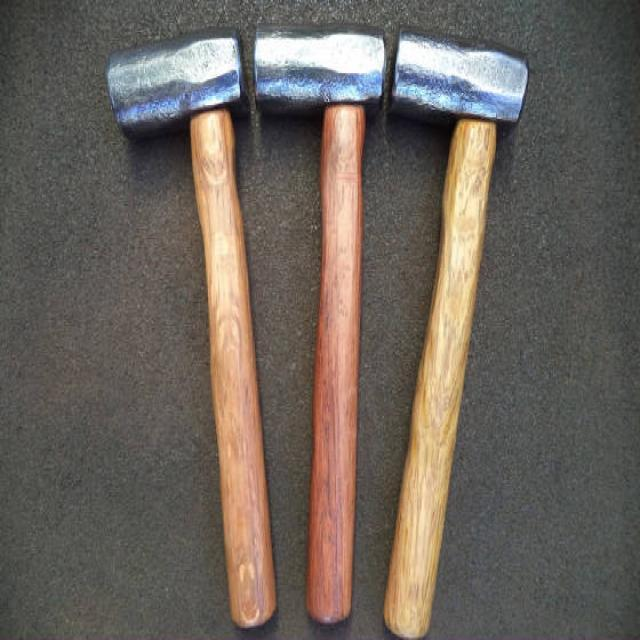hammer: (95, 24, 282, 634), (374, 23, 554, 640), (249, 13, 390, 640)
